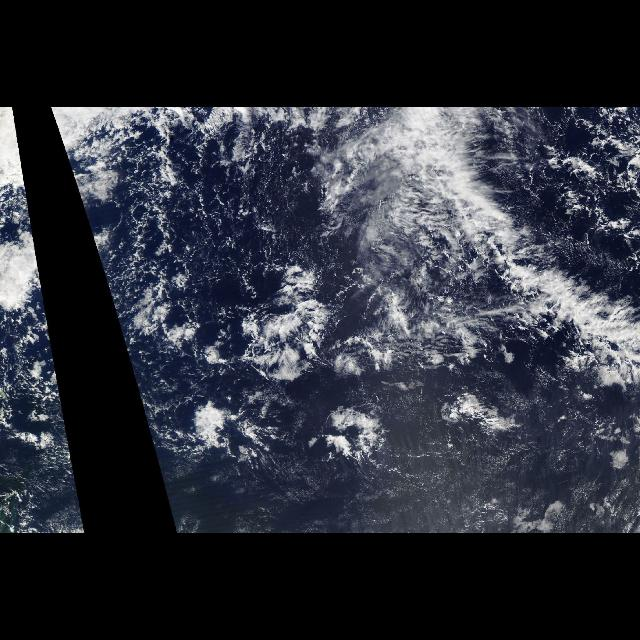Fish: (384, 142, 636, 372)
Gravel: (82, 135, 466, 363), (494, 109, 640, 201)
